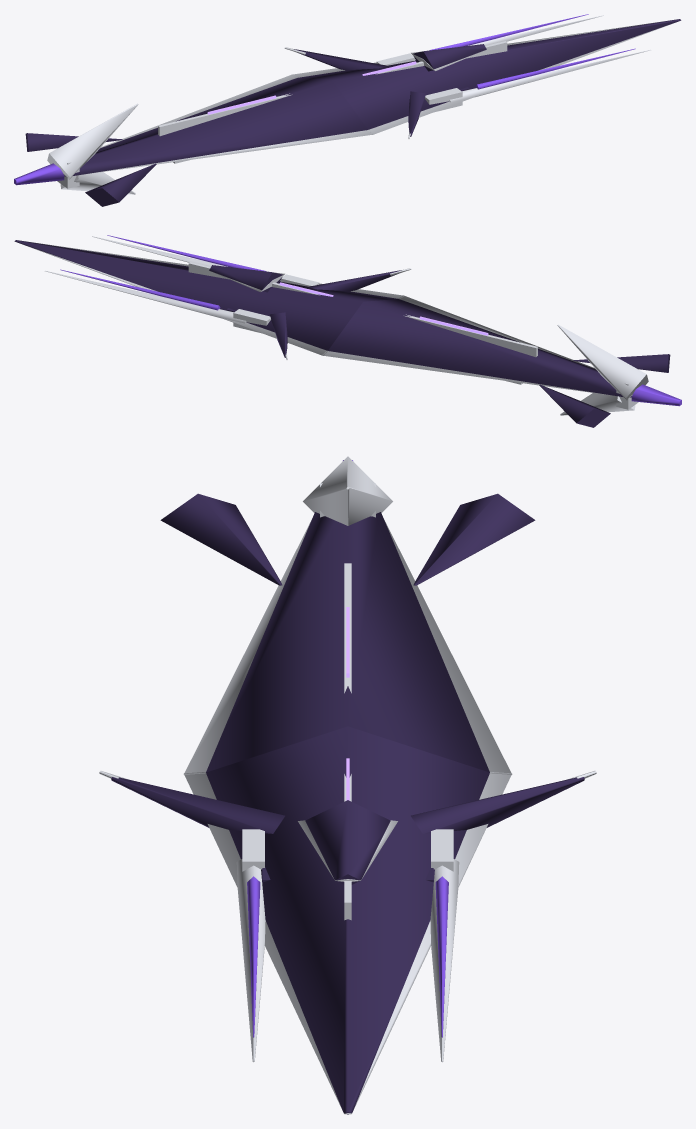
The model's file is corvette-hadron.glb.
3 views of the same model, one above another, from view 1: azimuth 30°, elevation 25°; view 2: azimuth 150°, elevation 25°; view 3: azimuth 270°, elevation 25° (orthographic). The views are drawn at different scales.
Visible parts, largest first — view 1: blade_aft, blade_fore, fin_dorsal, blade_aft_edge, spine_ridge, blade_fore_edge, fin_lateral_s, lance_prong_s, canopy, guard_wing_p, fin_lateral_p, drive_prism (+6 smaller); view 2: blade_aft, blade_fore, fin_dorsal, blade_aft_edge, spine_ridge, blade_fore_edge, fin_lateral_p, lance_prong_p, canopy, guard_wing_s, fin_lateral_s, drive_prism (+6 smaller); view 3: blade_fore, blade_aft, blade_aft_edge, blade_fore_edge, fin_lateral_p, fin_lateral_s, canopy, guard_wing_p, guard_wing_s, fin_dorsal, lance_prong_p, lance_prong_s (+3 smaller).
Boxes of the visible parts, box(x1,y1,x2,y2) form: blade_aft: box(64, 78, 367, 176); blade_fore: box(298, 19, 680, 129); fin_dorsal: box(47, 103, 138, 179); blade_aft_edge: box(63, 74, 373, 175); spine_ridge: box(158, 41, 507, 136); blade_fore_edge: box(291, 19, 681, 134); fin_lateral_s: box(85, 163, 156, 206); lance_prong_s: box(449, 49, 650, 102); canopy: box(413, 44, 486, 71); guard_wing_p: box(294, 49, 387, 70); fin_lateral_p: box(25, 133, 122, 151); drive_prism: box(14, 163, 64, 185); blade_aft: box(328, 299, 631, 397); blade_fore: box(15, 240, 397, 350); fin_dorsal: box(557, 324, 648, 400); blade_aft_edge: box(322, 295, 632, 396); spine_ridge: box(188, 262, 537, 357); blade_fore_edge: box(14, 240, 404, 355); fin_lateral_p: box(539, 384, 610, 427); lance_prong_p: box(45, 270, 246, 323); canopy: box(209, 265, 282, 292); guard_wing_s: box(308, 270, 401, 291); fin_lateral_s: box(573, 354, 670, 372); drive_prism: box(631, 384, 681, 406); blade_fore: box(206, 726, 489, 1114); blade_aft: box(206, 512, 489, 772); blade_aft_edge: box(183, 520, 512, 774); blade_fore_edge: box(184, 772, 511, 1114); fin_lateral_p: box(413, 493, 535, 585); fin_lateral_s: box(160, 493, 282, 585); canopy: box(305, 800, 390, 884); guard_wing_p: box(411, 777, 584, 833); guard_wing_s: box(111, 777, 284, 833); fin_dorsal: box(303, 456, 392, 525); lance_prong_p: box(430, 859, 459, 1062); lance_prong_s: box(236, 859, 265, 1062).
Bounding box in the file's own units: 80 × 10.4 × 25.87.
